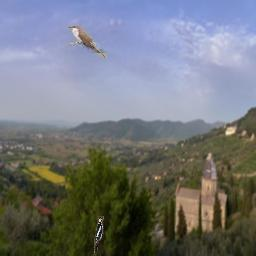Cuckoo: (67, 25, 107, 58)
Woodpecker: (94, 216, 104, 256)
